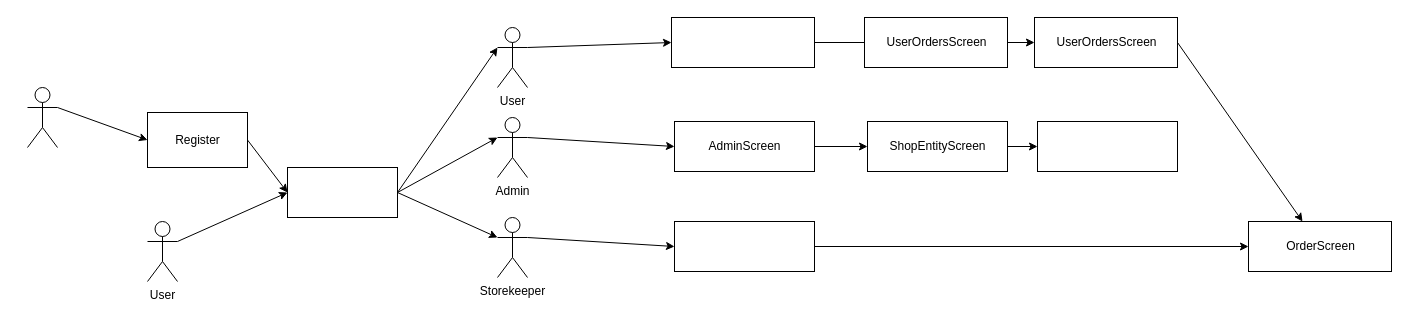
The diagram is 1409 pixels wide and 320 high, and some of its shapes have lost their labels. The centre of each missing label's shape, as x and y in pixels:
Login: pixel 342 192
ShopStorageScreen: pixel 1107 146
StoreKeeperScreen: pixel 744 246
Unknown: pixel 42 117
UserScreen: pixel 742 42
